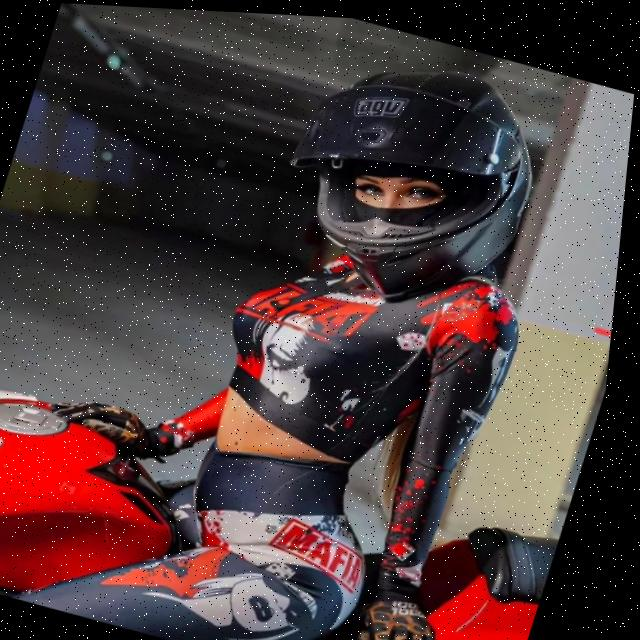helmet: (245, 19, 579, 333)
